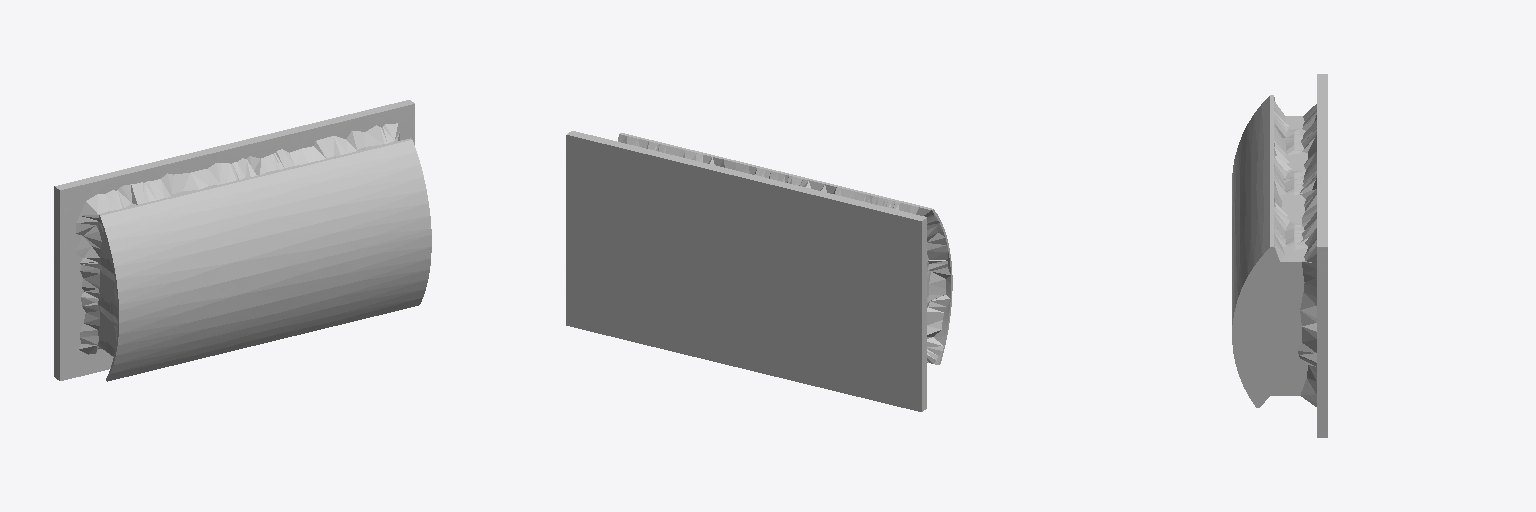
Rendered from Ifc4_SampleHouse_0.500000_0.001000_-1.000000.obj.
3 views of the same model, side by side, from view 1: azimuth 30°, elevation 25°; view 2: azimuth 150°, elevation 25°; view 3: azimuth 270°, elevation 25° (orthographic).
Bounding box in the file's own units: 16.87 × 8.67 × 3.95.